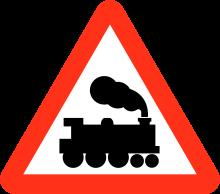Barrier Ahead: (3, 13, 210, 190)
